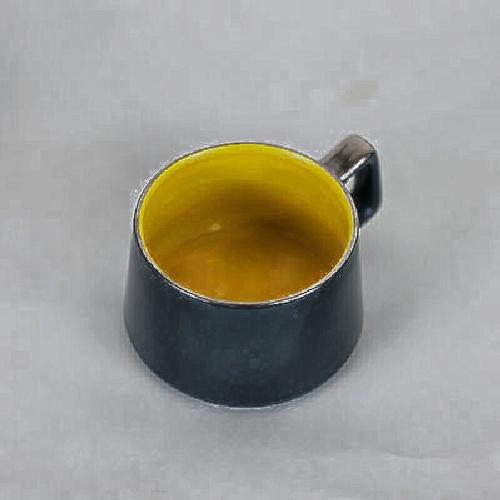mug: (128, 131, 392, 400)
